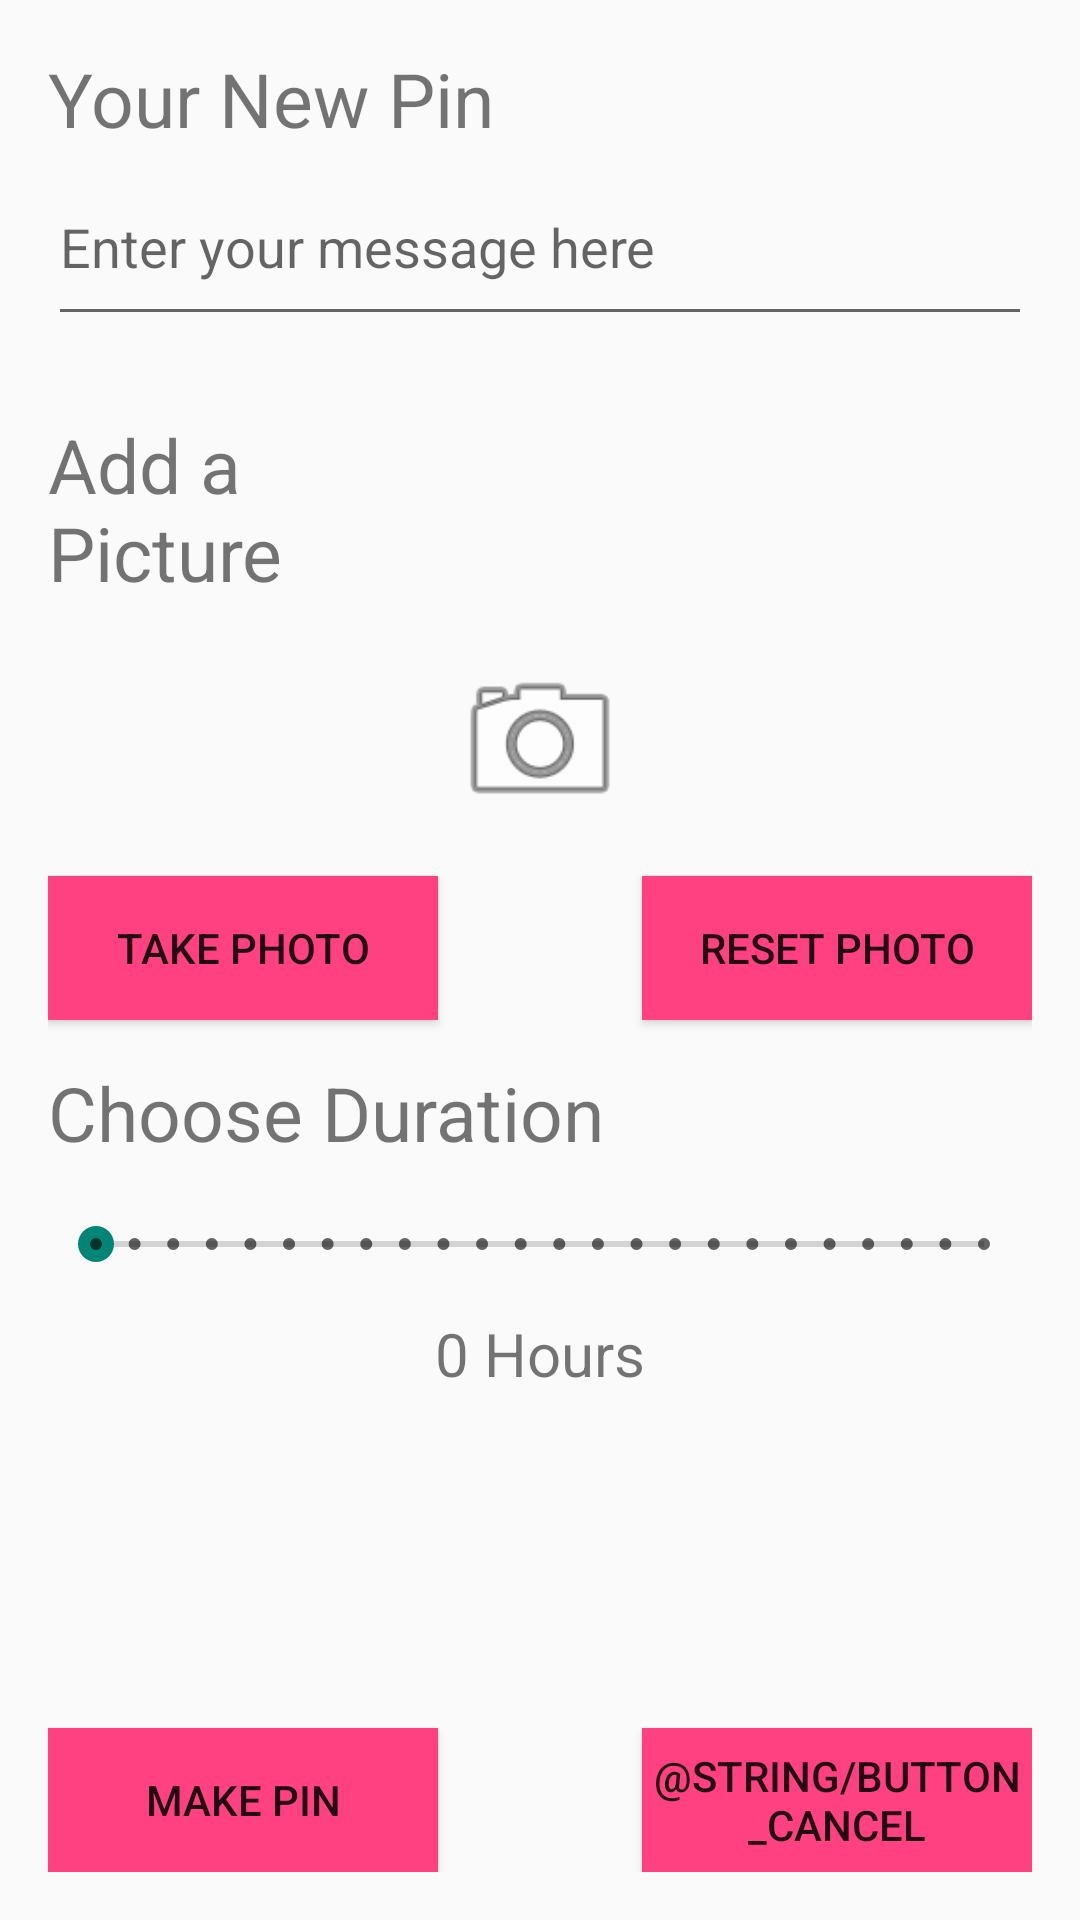

Where to tap for icons on this 1080px×1920px app screen, as (x,y):
camera: (540,738)
